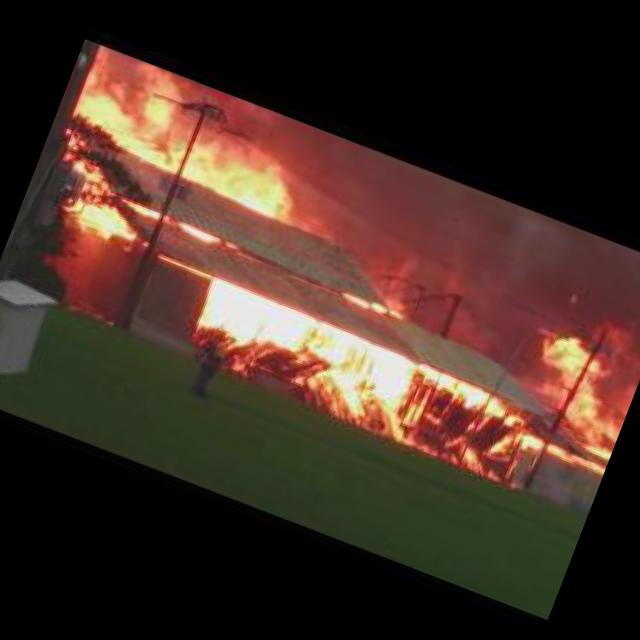fire: (67, 48, 326, 224), (178, 274, 422, 443), (509, 311, 640, 462), (391, 362, 532, 486), (52, 163, 166, 255), (516, 437, 606, 495), (178, 218, 244, 254), (341, 287, 404, 321)
